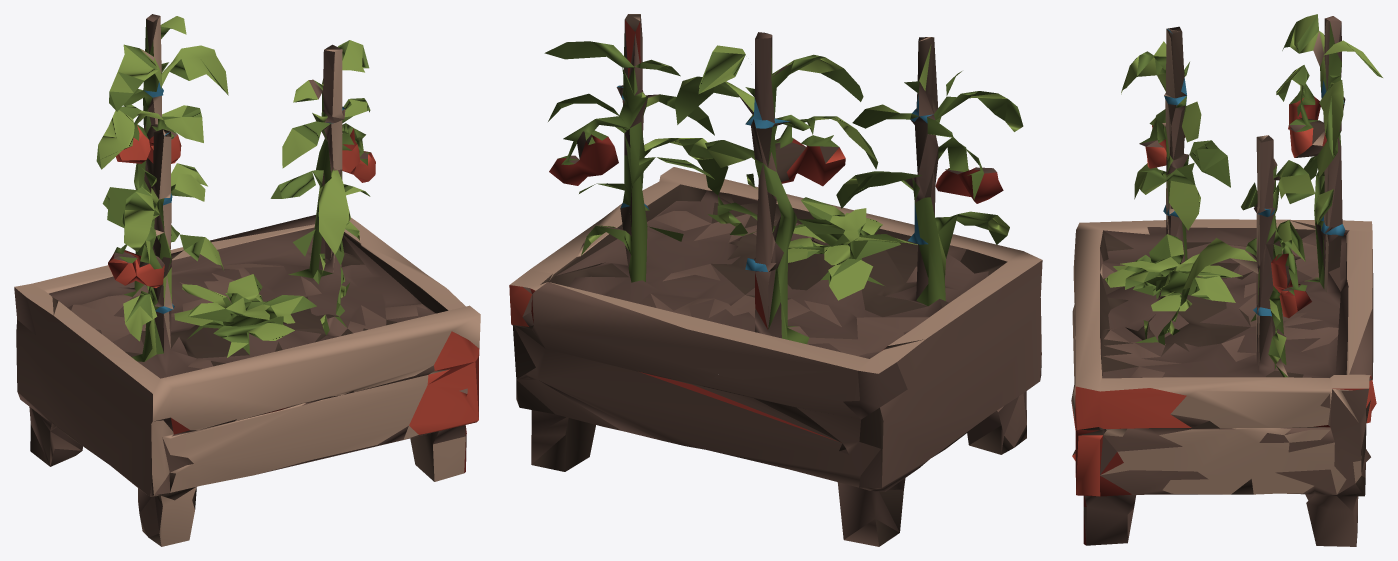
Rendered from planter-QSqRF3pY.glb.
3 views of the same model, side by side, from view 1: azimuth 30°, elevation 25°; view 2: azimuth 150°, elevation 25°; view 3: azimuth 270°, elevation 25° (orthographic). The views are drawn at different scales.
Visible parts, largest first — view 1: tripo_node_a225cdfc-ad7b-4133-9370-cd6fe7834e41; view 2: tripo_node_a225cdfc-ad7b-4133-9370-cd6fe7834e41; view 3: tripo_node_a225cdfc-ad7b-4133-9370-cd6fe7834e41.
Boxes of the visible parts, <box> form: tripo_node_a225cdfc-ad7b-4133-9370-cd6fe7834e41: <box>14,14,480,546</box>; tripo_node_a225cdfc-ad7b-4133-9370-cd6fe7834e41: <box>509,14,1042,546</box>; tripo_node_a225cdfc-ad7b-4133-9370-cd6fe7834e41: <box>1071,14,1382,546</box>.
Bounding box in the file's own units: 0.8247 × 0.9783 × 0.6416.
